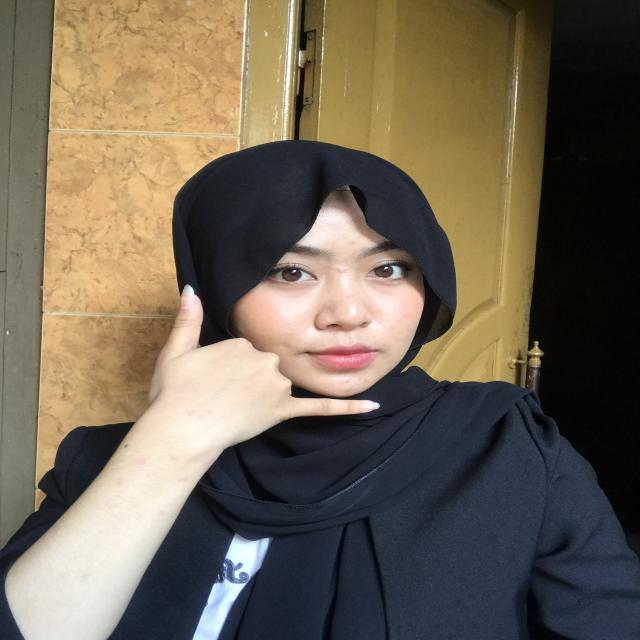telpon: (113, 276, 395, 498)
